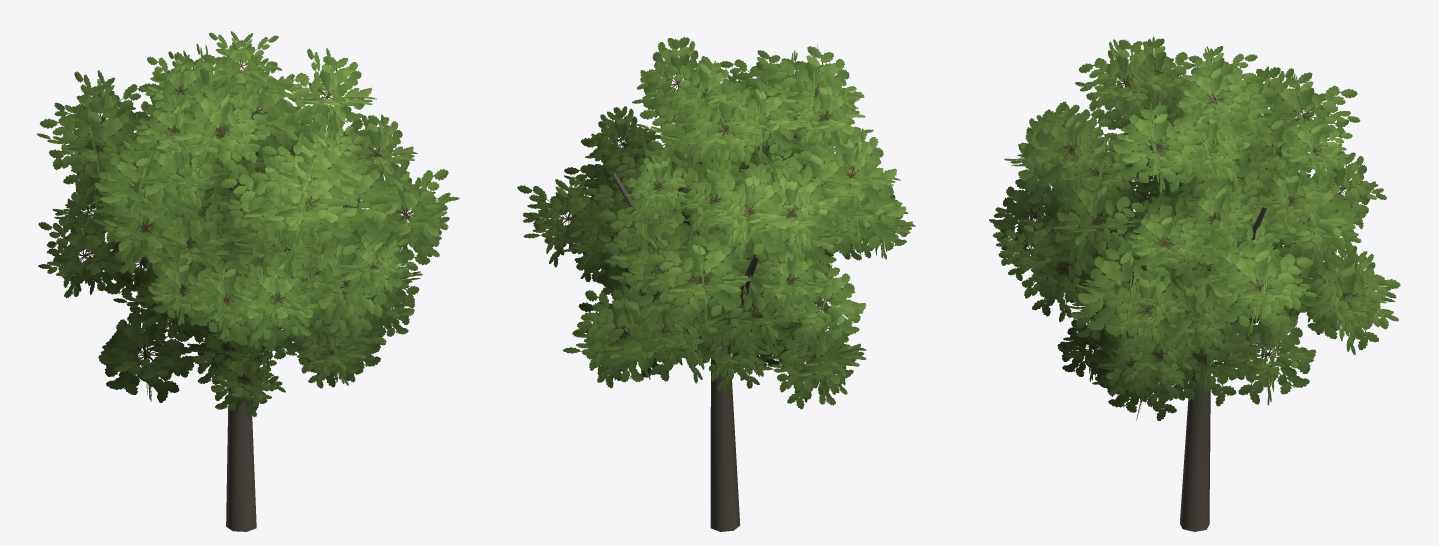
File: tree-caducifolia.glb
The picture shows the model from 3 angles, left to right: view 1: azimuth 30°, elevation 25°; view 2: azimuth 150°, elevation 25°; view 3: azimuth 270°, elevation 25°; orthographic projection. The views are drawn at different scales.
Visible parts, largest first — view 1: tree-caducifolia; view 2: tree-caducifolia; view 3: tree-caducifolia.
Part boxes in pixels (x1,y1,x2,y2): tree-caducifolia: [36, 31, 459, 531]; tree-caducifolia: [517, 37, 915, 531]; tree-caducifolia: [989, 37, 1400, 531].
Bounding box in the file's own units: 11.77 × 14.29 × 12.66.
2 materials, 1 textured.
